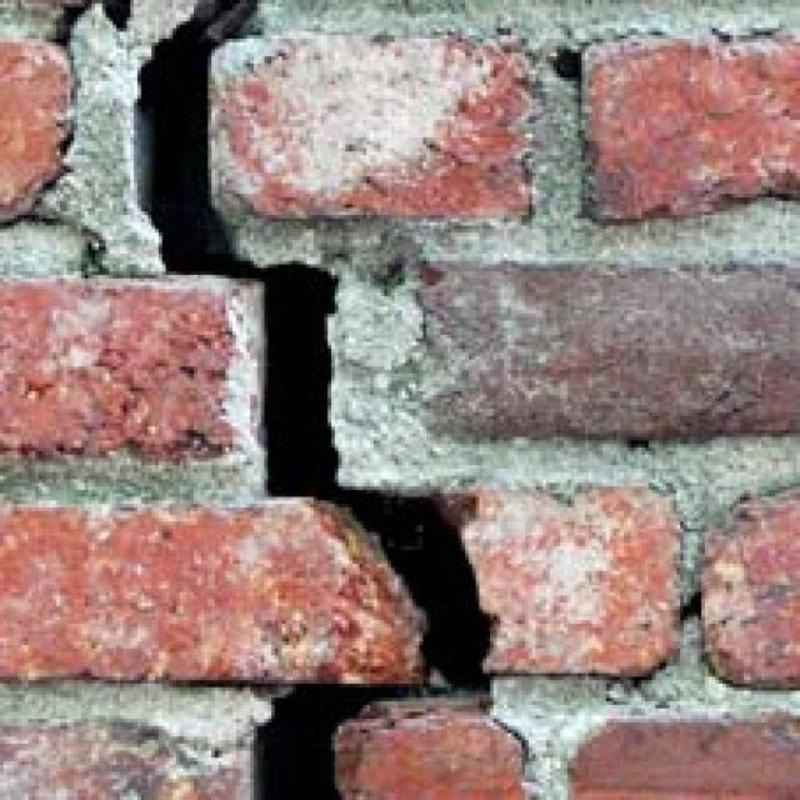crack: (138, 0, 489, 687), (256, 686, 416, 799)
